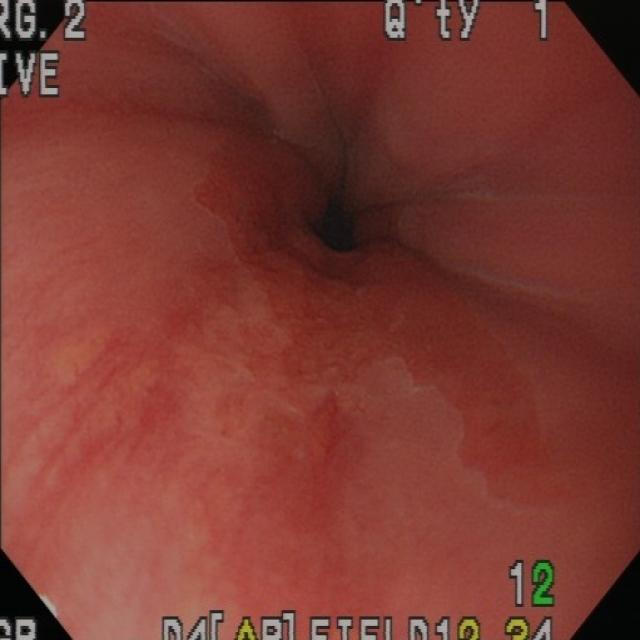D: (215, 391, 367, 605), (44, 319, 188, 482)
I: (200, 70, 477, 331)
S: (160, 611, 483, 640), (383, 3, 558, 45), (2, 3, 89, 44), (3, 50, 63, 102), (507, 561, 556, 611), (506, 617, 556, 640), (2, 617, 39, 640)
